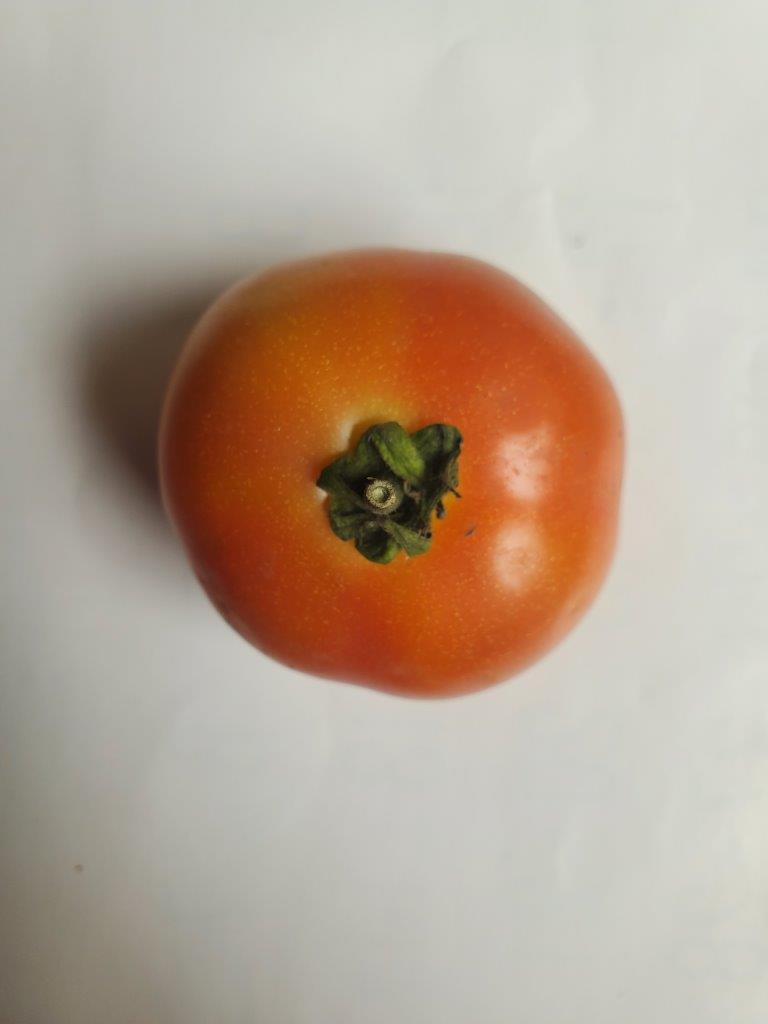tomato: (160, 250, 623, 696)
